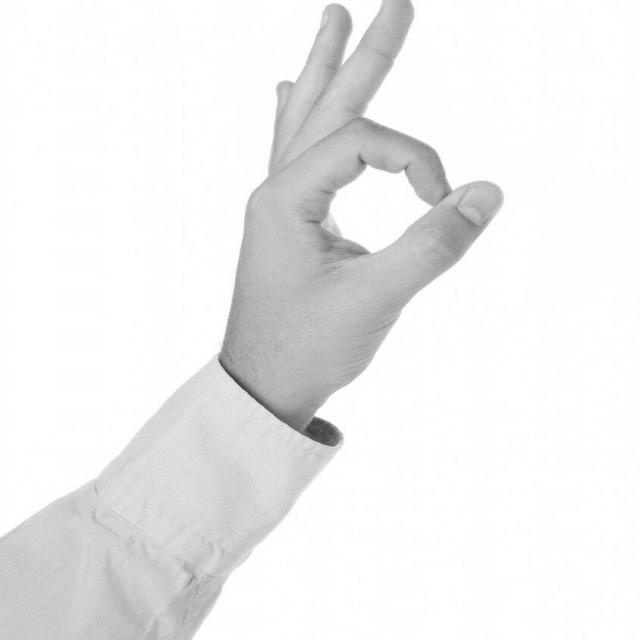perfect: (210, 0, 517, 417)
